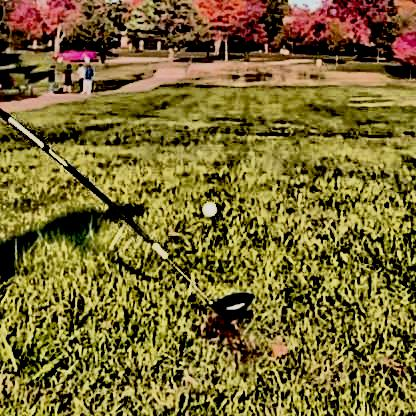golfball: (199, 199, 214, 214)
